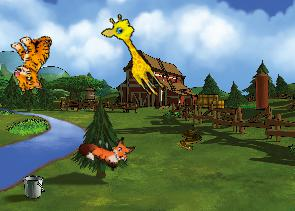fox: (76, 122, 137, 175)
giraffe: (97, 10, 175, 100)
tiger: (5, 30, 61, 93)
